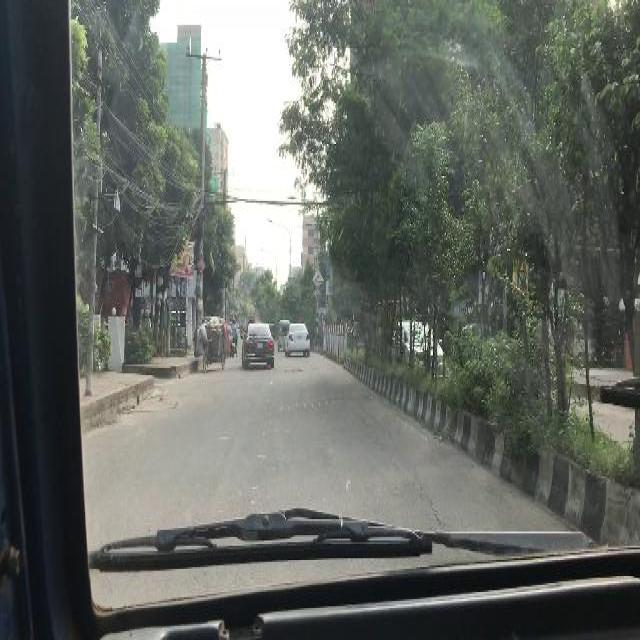car: (390, 317, 445, 375), (241, 318, 274, 363), (285, 322, 309, 354)
motorcycle: (277, 318, 289, 348), (231, 334, 236, 354)
